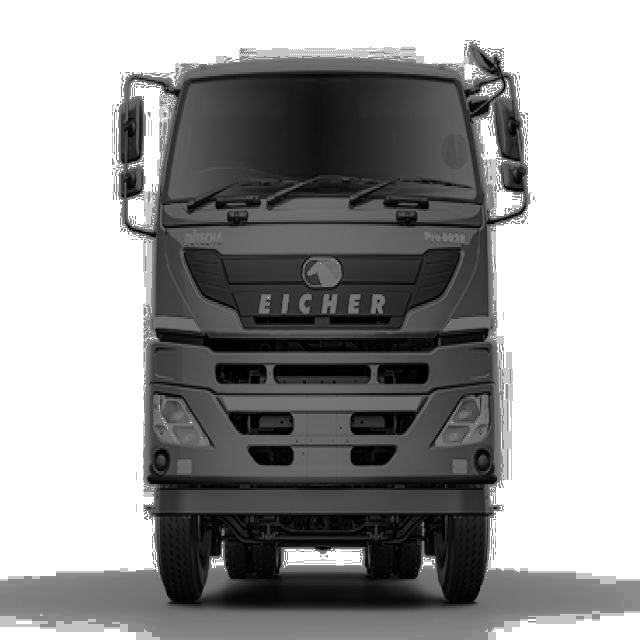HCV: (103, 26, 555, 630)
